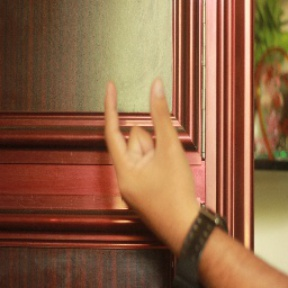U: (94, 71, 194, 200)
